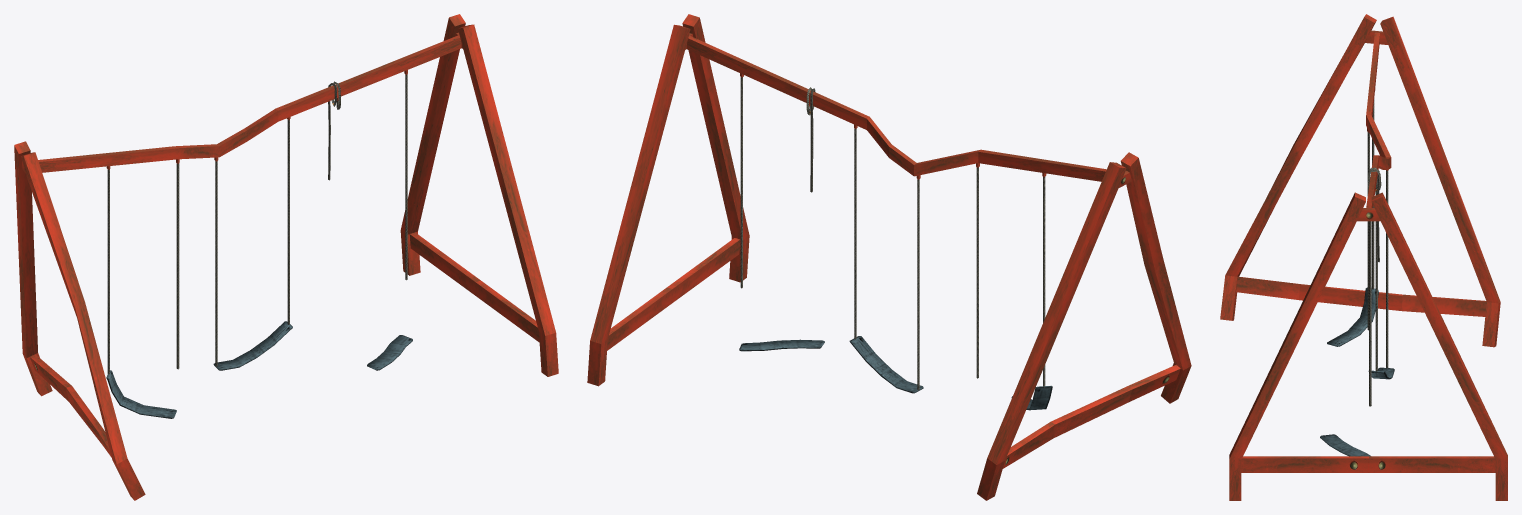
Rendered from Model_Swing_01.fbx.
The picture shows the model from 3 angles, left to right: view 1: azimuth 30°, elevation 25°; view 2: azimuth 150°, elevation 25°; view 3: azimuth 270°, elevation 25°; orthographic projection. The views are drawn at different scales.
Visible parts, largest first — view 1: Swing1; view 2: Swing1; view 3: Swing1.
Part boxes in pixels (x1,y1,x2,y2): Swing1: (14, 14, 558, 500); Swing1: (587, 14, 1191, 500); Swing1: (1220, 14, 1507, 500).
Bounding box in the file's own units: 513 × 351 × 286.
